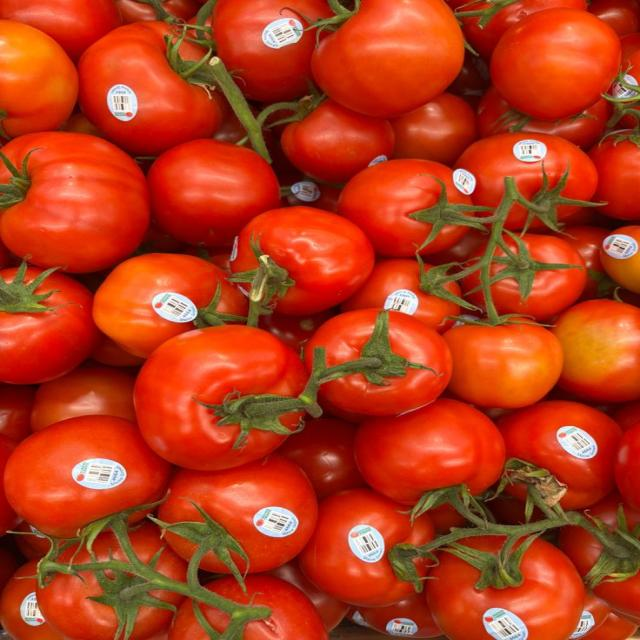tomato: (134, 325, 307, 470), (0, 132, 149, 273), (4, 415, 171, 536), (78, 21, 220, 155), (159, 454, 317, 574), (312, 0, 464, 117), (93, 253, 247, 358), (426, 539, 585, 639), (355, 398, 505, 504), (299, 488, 433, 606), (231, 206, 373, 315), (490, 8, 620, 120), (147, 139, 279, 248), (319, 312, 451, 415), (498, 401, 621, 510), (339, 159, 472, 257), (213, 0, 331, 103), (0, 271, 98, 384), (454, 132, 597, 208), (443, 320, 562, 408), (280, 99, 394, 182), (0, 19, 78, 138), (551, 300, 639, 401), (340, 258, 459, 332), (489, 233, 586, 322), (477, 87, 612, 150), (205, 573, 328, 639), (457, 0, 586, 60), (0, 0, 122, 62), (277, 417, 366, 499), (29, 364, 135, 431), (391, 92, 478, 166), (36, 571, 123, 639), (269, 559, 349, 631), (0, 560, 63, 639), (589, 130, 639, 223), (560, 224, 609, 301), (358, 593, 440, 638), (259, 308, 337, 352), (600, 225, 639, 293), (586, 492, 639, 535), (614, 423, 639, 510), (0, 383, 36, 441), (0, 436, 20, 537), (91, 332, 144, 367), (588, 0, 639, 36), (574, 592, 612, 638), (589, 612, 639, 639), (0, 539, 22, 593), (112, 0, 157, 24), (610, 400, 640, 431), (620, 32, 639, 63)
